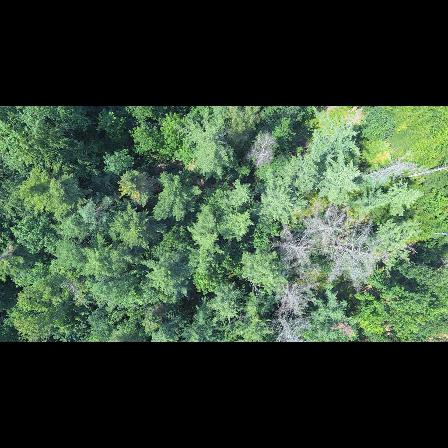Dead: (326, 237, 382, 278), (268, 231, 320, 273), (303, 206, 342, 248), (276, 283, 317, 320), (247, 133, 280, 173), (271, 309, 306, 342)
